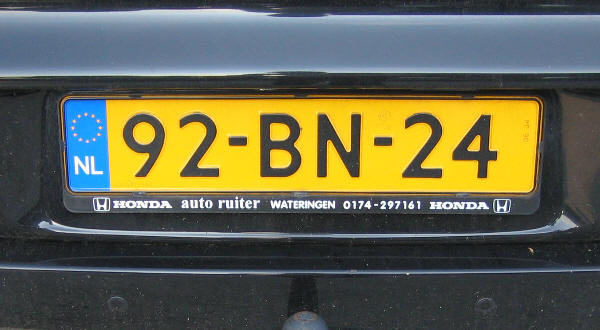license_plate: (60, 94, 546, 199)
